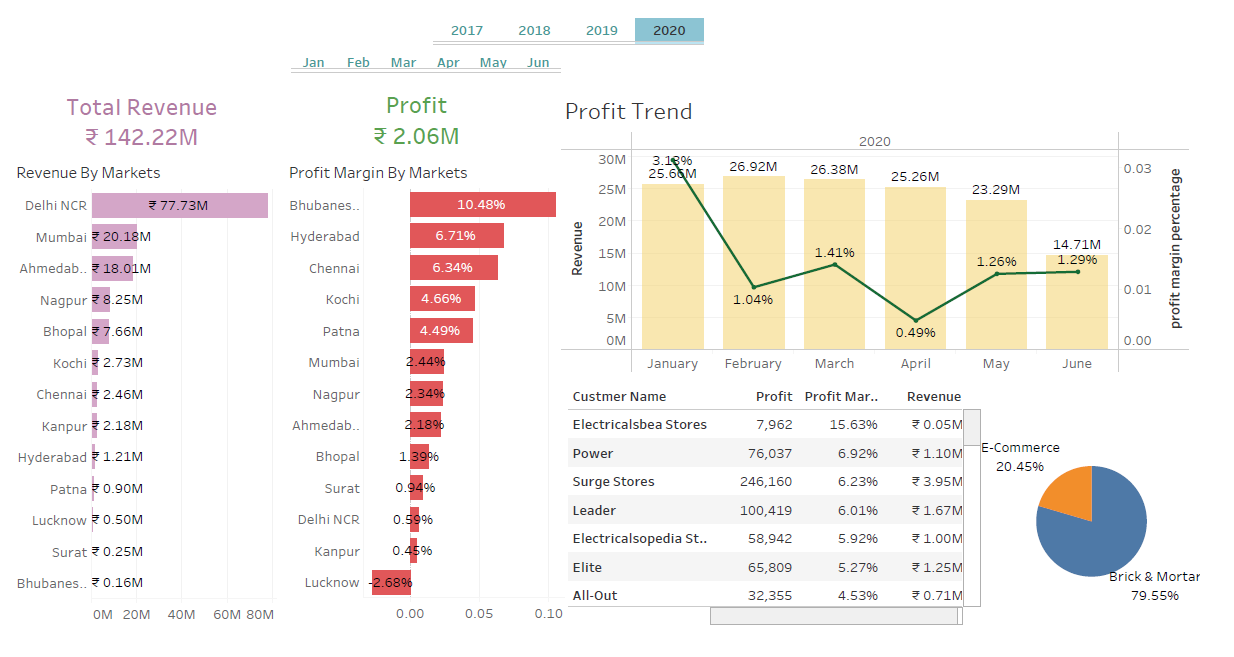

What the dashboard file says about the page in this screenshot:
{"tool":"tableau","page":{"name":"Profit Analysis","canvas":[1600,900],"ordinal":0},"visuals":[{"type":"worksheet","title":"Year","mark":"Automatic","cols":["cy_date"],"box":[578.1,27,587.7,49.5]},{"type":"worksheet","title":"Month","mark":"Automatic","cols":["cy_date"],"box":[388.3,74.2,860.8,66.4]},{"type":"worksheet","title":"Revenue","mark":"Automatic","box":[51.6,96,292.1,182]},{"type":"worksheet","title":"Profit","mark":"Automatic","box":[486,121,215,126]},{"type":"worksheet","title":"Profit Trend","mark":"Bar","rows":["Calculation_3364188936040263680","Calculation_3364188936090558467"],"cols":["cy_date","cy_date"],"box":[749,122,838,377]},{"type":"worksheet","title":"Profit Margin By Markets ","mark":"Automatic","rows":["markets_name"],"cols":["Calculation_3364188936090558467"],"box":[381,211,372,668]},{"type":"worksheet","title":"Revenue By Customer Type","mark":"Pie","box":[1309,500,295,396]},{"type":"worksheet","title":"Customer","mark":"Automatic","rows":["custmer_name"],"box":[758,511,551,389]}]}

Visuals, with their boxes on the page's 1600x900 design canvas (x1, y1, x2, y2). These are canvas units, not pixel positions in the 1234x657 screenshot, which may show the page scaled, cropped or inside an application window:
"Year" worksheet: l=578, t=27, r=1166, b=76
"Month" worksheet: l=388, t=74, r=1249, b=141
"Revenue" worksheet: l=52, t=96, r=344, b=278
"Profit" worksheet: l=486, t=121, r=701, b=247
"Profit Trend" worksheet (Bar marks): l=749, t=122, r=1587, b=499
"Profit Margin By Markets " worksheet: l=381, t=211, r=753, b=879
"Revenue By Customer Type" worksheet (Pie marks): l=1309, t=500, r=1604, b=896
"Customer" worksheet: l=758, t=511, r=1309, b=900
